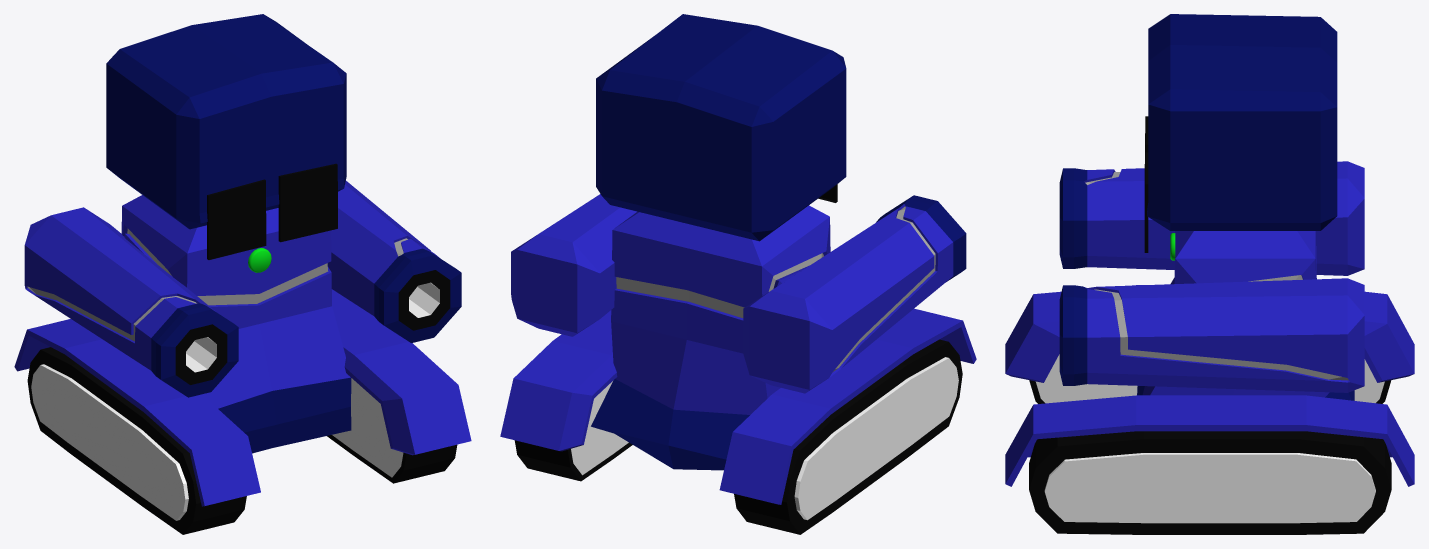
The model's file is BlueRobot.fbx.
3 views of the same model, side by side, from view 1: azimuth 30°, elevation 25°; view 2: azimuth 150°, elevation 25°; view 3: azimuth 270°, elevation 25° (orthographic). The views are drawn at different scales.
Visible parts, largest first — view 1: Head, Robot, Wheels.R, Arm.R, Wheels.L, Arm.L, Eye.L, Eye.R; view 2: Head, Robot, Wheels.R, Arm.R, Wheels.L, Arm.L; view 3: Wheels.L, Head, Arm.L, Arm.R, Wheels.R, Robot.
Boxes of the visible parts, box(x1,y1,x2,y2) form: Head: box(106, 14, 346, 229); Robot: box(121, 195, 351, 453); Wheels.R: box(14, 319, 260, 534); Arm.R: box(24, 207, 238, 397); Wheels.L: box(327, 289, 471, 483); Arm.L: box(327, 180, 461, 342); Eye.L: box(278, 163, 337, 242); Eye.R: box(207, 179, 266, 259); Head: box(596, 14, 846, 241); Robot: box(591, 205, 830, 470); Wheels.R: box(719, 308, 976, 534); Arm.R: box(743, 195, 966, 393); Wheels.L: box(500, 310, 632, 481); Arm.L: box(511, 194, 636, 336); Wheels.L: box(1005, 395, 1414, 534); Head: box(1147, 14, 1337, 230); Arm.L: box(1059, 278, 1364, 392); Arm.R: box(1059, 161, 1364, 275); Wheels.R: box(1005, 285, 1414, 403); Robot: box(1137, 231, 1354, 400).
Bounding box in the file's own units: 177 × 216 × 189.
